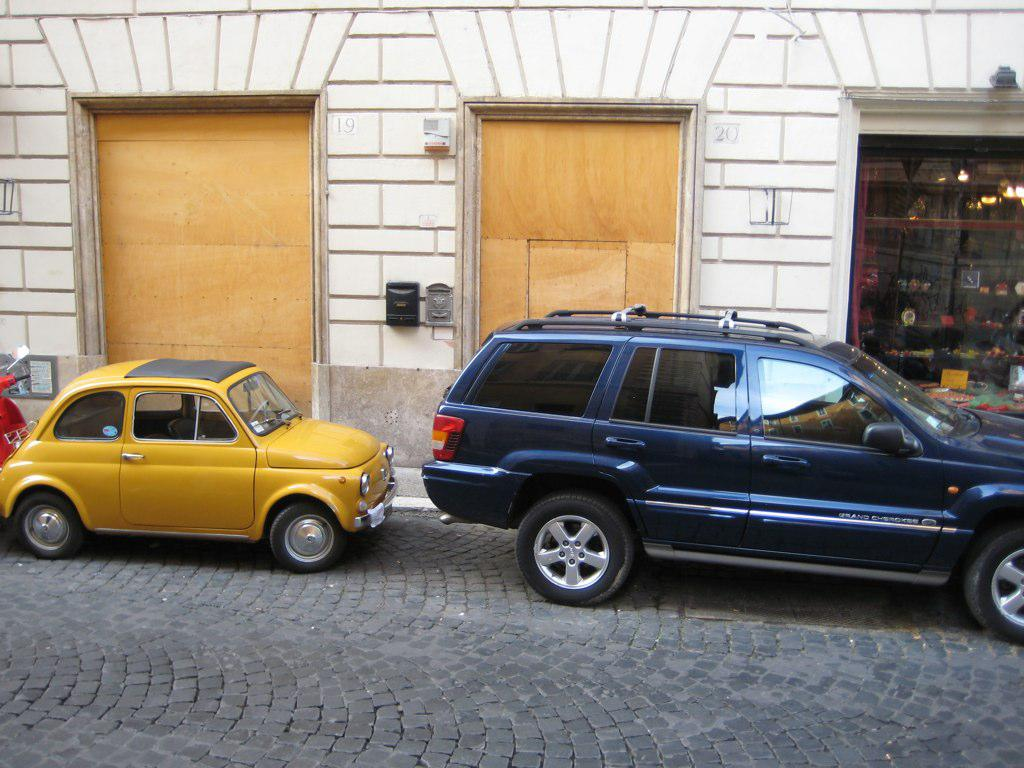car: (401, 254, 1024, 656)
